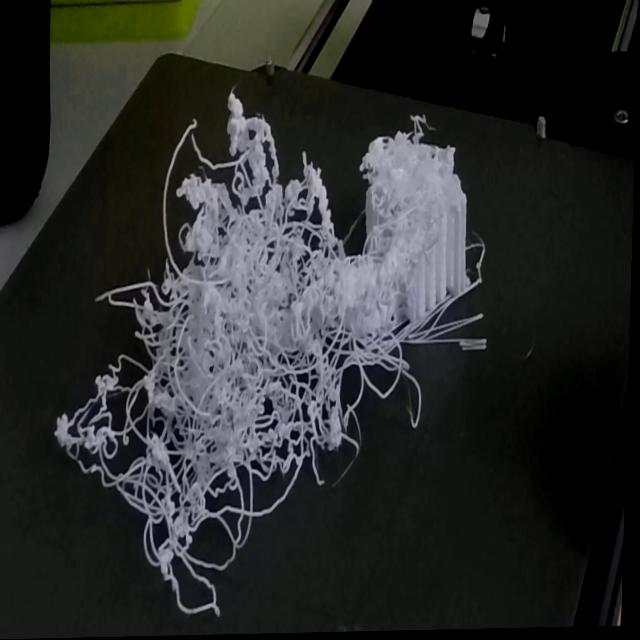spaghetti: (64, 95, 514, 573)
